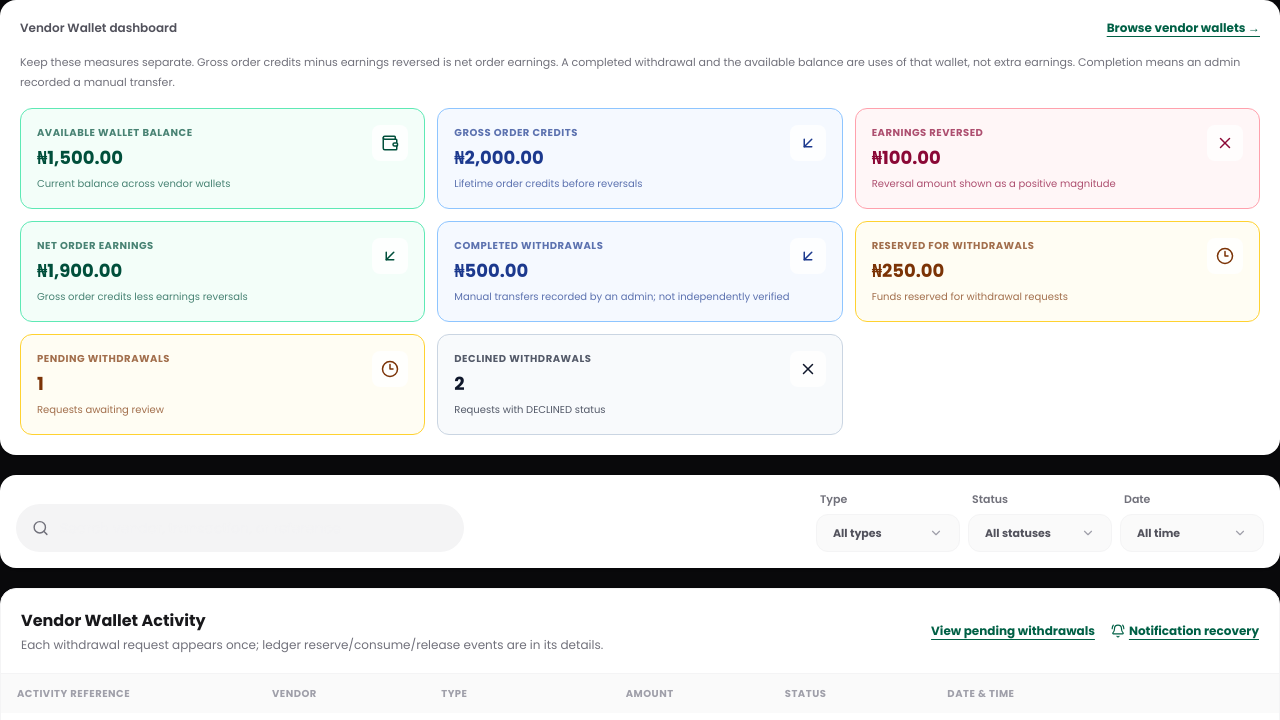
Test case: Super Admin Vendor Wallet API screens › opens the pending drawer and shows an empty state from the API
Step 1. Click the button "Pending withdrawals 1 Requests awaiting review" → (103, 358), box top-left (20, 334), bottom-right (425, 435)
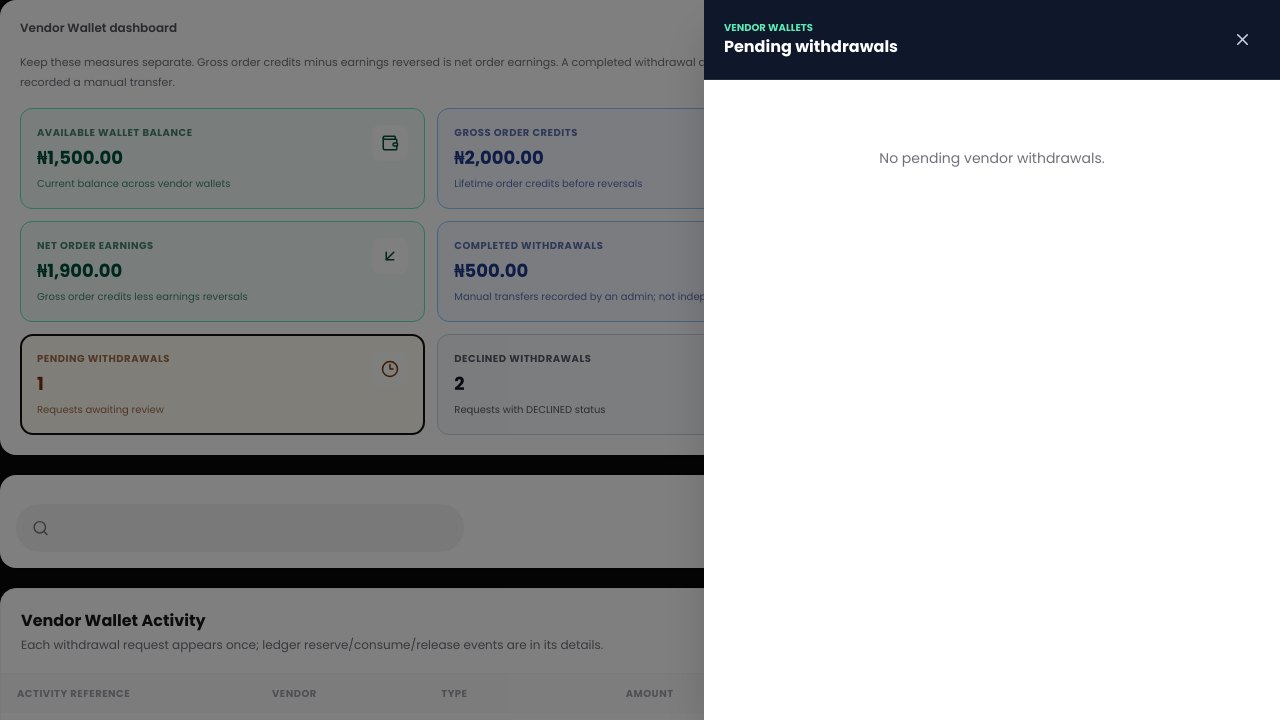
Result: the text "No pending vendor withdrawals." is shown at top-left (879, 148), bottom-right (1105, 168)
